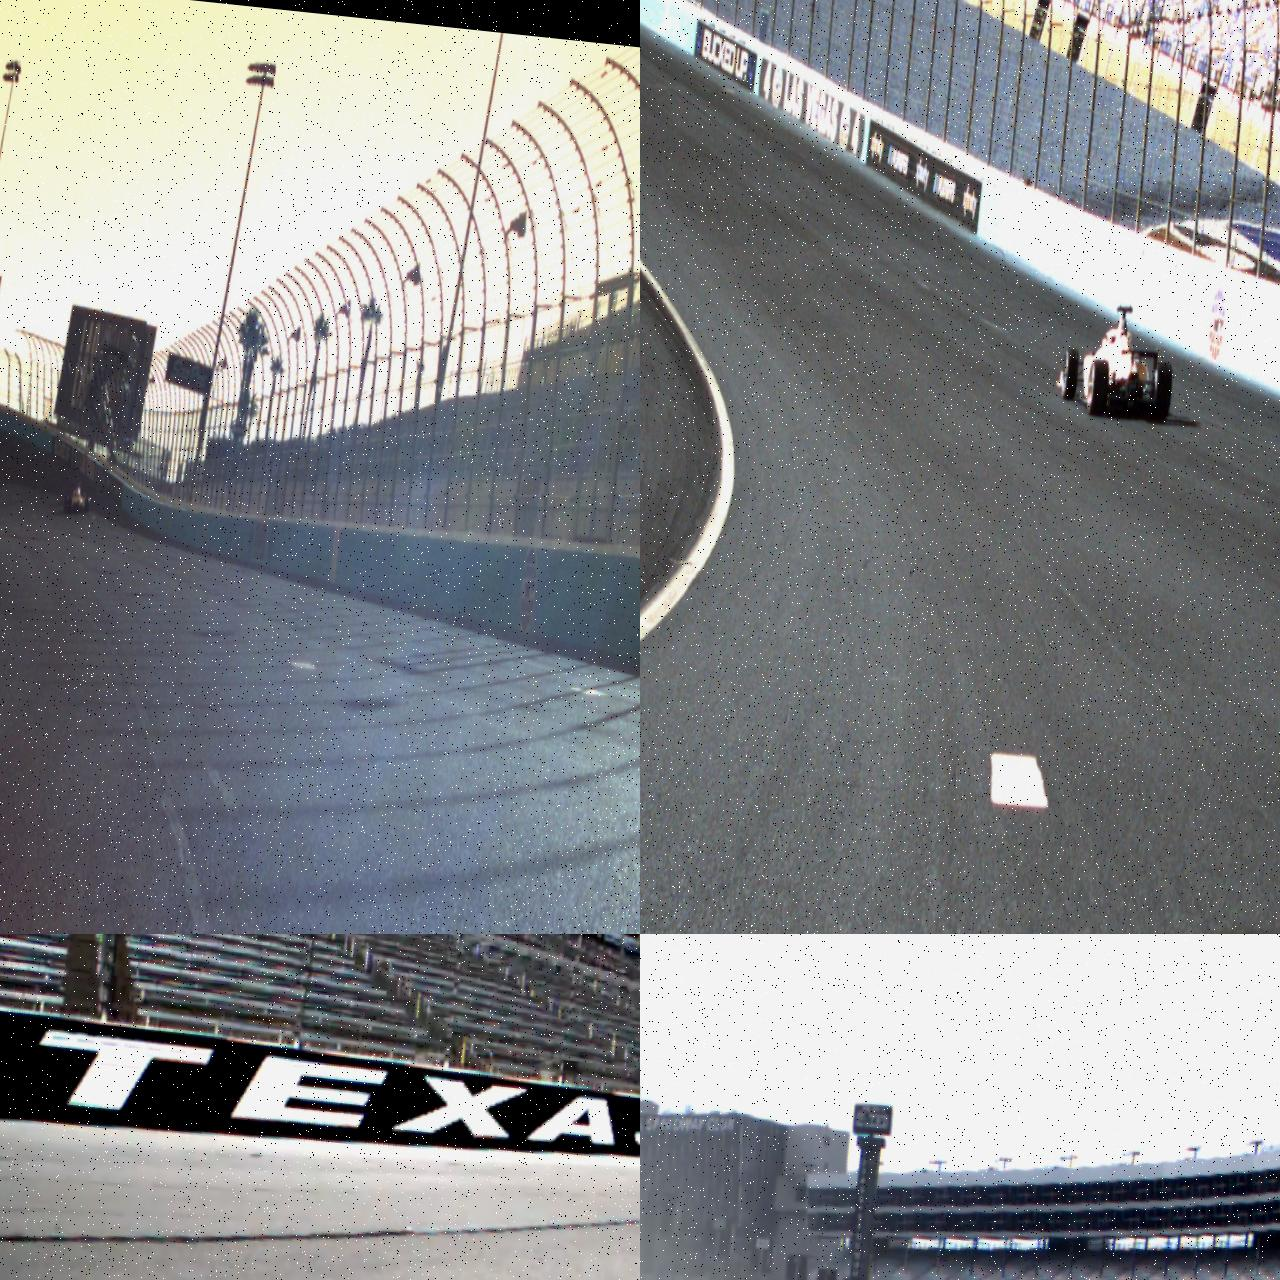AV: (1053, 299, 1180, 424), (63, 481, 93, 516)
Wheel: (1148, 362, 1175, 424), (1085, 359, 1111, 416), (1060, 347, 1081, 401), (86, 495, 91, 511), (67, 498, 72, 515), (63, 496, 68, 510)
